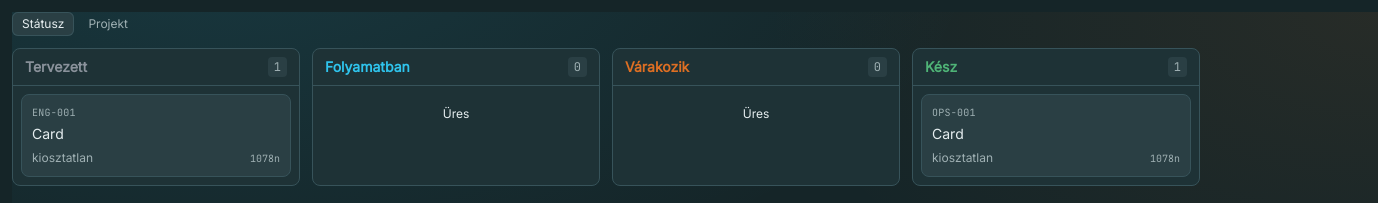
Scenario: KanbanBoard (AC-F0-7..9) › toggles to the project-grouped view and back to status
Expected: the text "Tervezett" is shown, [25,57,87,77]
Click the button "Projekt". click: (108, 24)
box: [78,12,138,36]
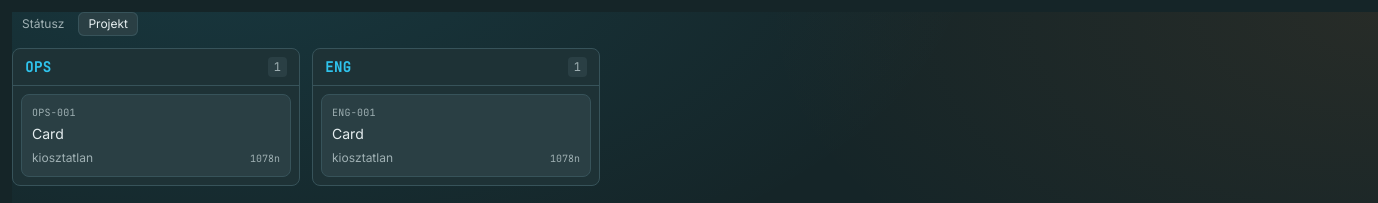
Expected: the text "ENG" is shown, [325,57,351,77]
Expected: the text "OPS" is shown, [25,57,51,77]
Expected: the text "Tervezett" is gone
Click the button "Státusz". click: (43, 24)
box: [12,12,74,36]
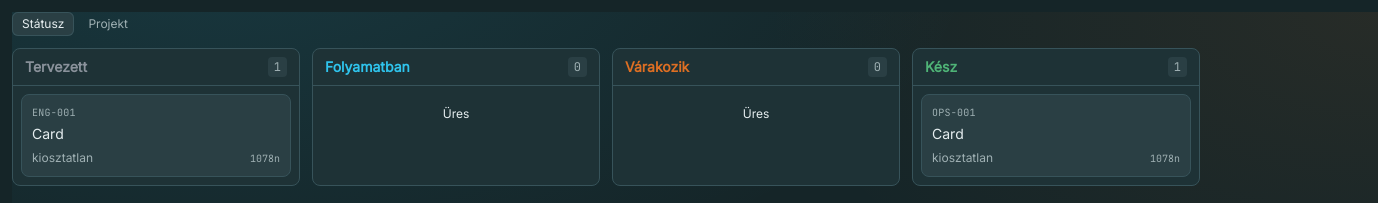
Expected: the text "Tervezett" is shown, [25,57,87,77]
